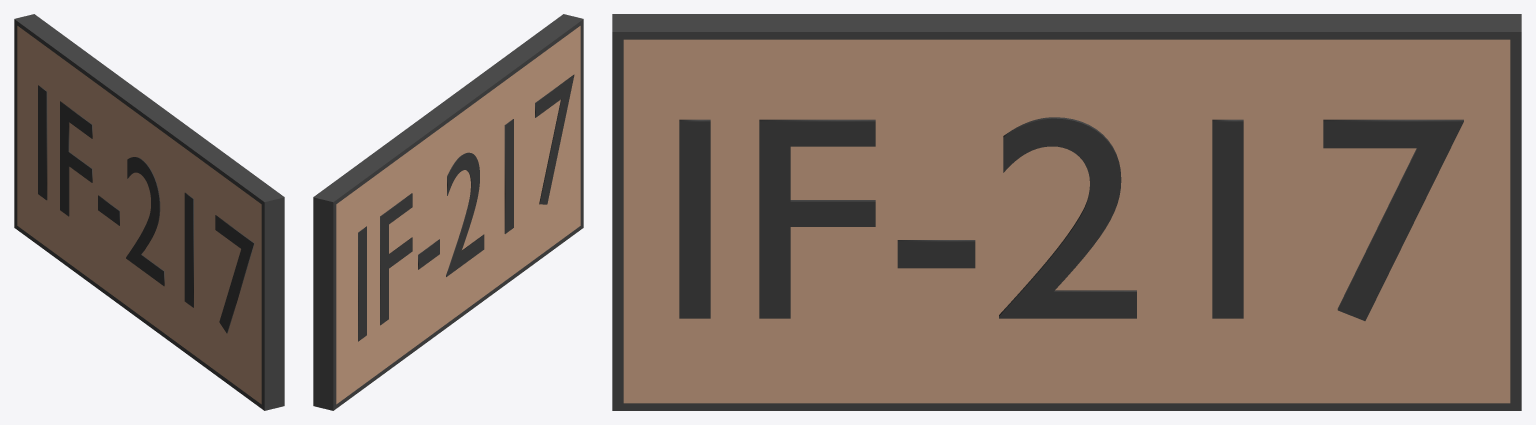
3 renders of one model, left to right at view 1: azimuth 30°, elevation 25°; view 2: azimuth 150°, elevation 25°; view 3: azimuth 270°, elevation 25°, orthographic. The views are drawn at different scales.
Visible parts, largest first — view 1: Cube, Text.001; view 2: Cube, Text.001; view 3: Cube, Text.
Boxes of the visible parts, x1=… form: Cube: x1=14, y1=14, x2=284, y2=410; Text.001: x1=38, y1=85, x2=254, y2=333; Cube: x1=313, y1=14, x2=583, y2=410; Text.001: x1=358, y1=74, x2=574, y2=341; Cube: x1=612, y1=14, x2=1521, y2=410; Text: x1=679, y1=117, x2=1463, y2=320.
Bounding box in the file's own units: 11.55 × 102 × 222.
